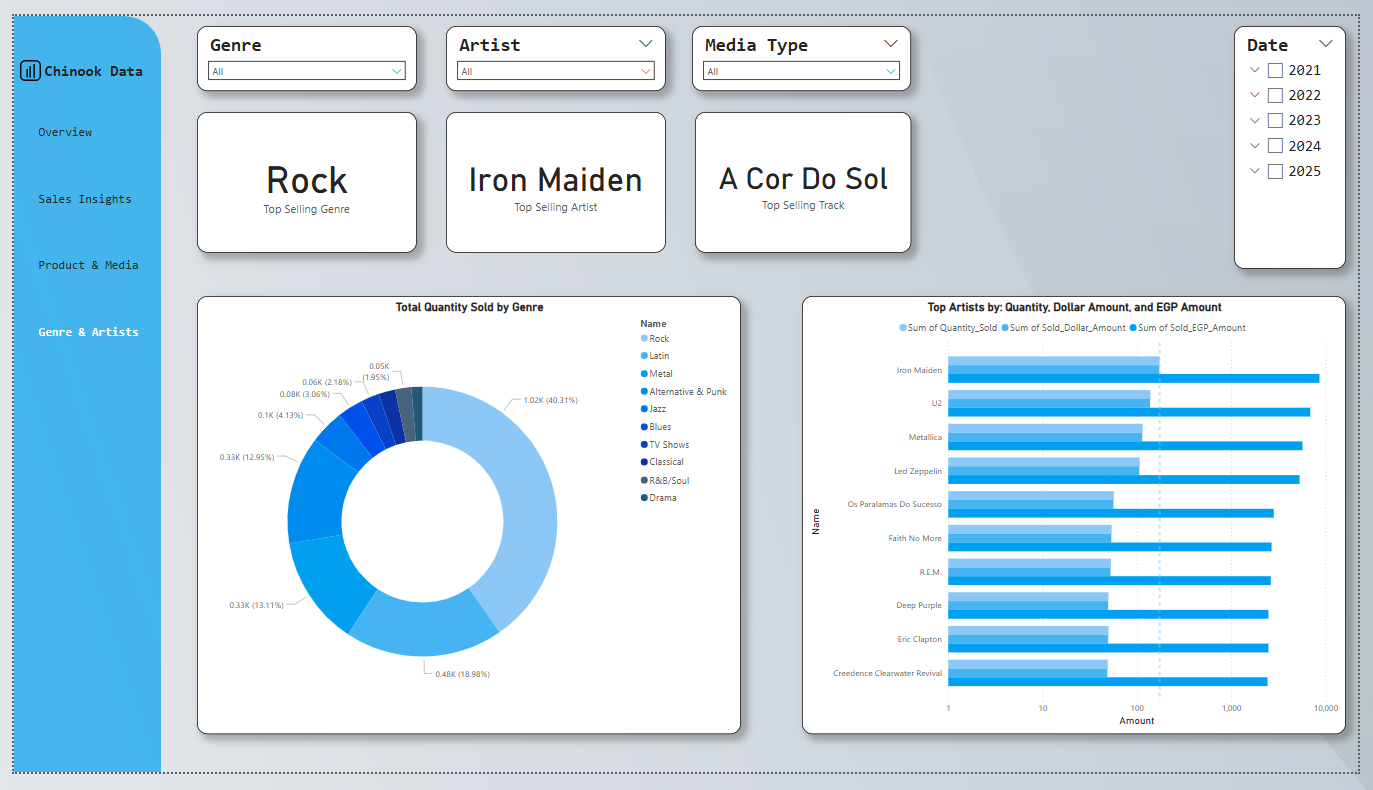

What the dashboard file says about the page in this screenshot:
{"tool":"powerbi","page":{"name":"Genre & Artists","canvas":[1920,1080],"ordinal":3},"visuals":[{"type":"shape","box":[0,0,210,1080],"z":0},{"type":"shape","box":[12.7,75.8,12,12],"z":1000},{"type":"shape","box":[8.7,62.8,30,30],"z":2000},{"type":"shape","box":[17.7,70.8,12,17.2],"z":3000},{"type":"shape","box":[23,68,12,20.3],"z":4000},{"type":"textbox","box":[38.6,60,171.4,40],"z":5000},{"type":"slicer","fields":{"Values":["Genre.Name"]},"box":[261.4,14.3,314.3,92.9],"z":6000},{"type":"slicer","fields":{"Values":["Artist.Name"]},"box":[617.1,14.3,314.3,92.9],"z":7000},{"type":"slicer","fields":{"Values":["Dim_Date.Year","Dim_Date.FullDate.Variation.Date Hierarchy.Quarter","Dim_Date.FullDate.Variation.Date Hierarchy.Month"]},"box":[1742.9,14.3,160,347.1],"z":8000},{"type":"pageNavigator","box":[0,122.9,210,371.4],"z":9000},{"type":"card","fields":{"Values":["Genre.Name"]},"box":[261.4,137.1,314.3,201.4],"z":10000},{"type":"card","fields":{"Values":["Artist.Name"]},"box":[617.1,137.1,314.3,201.4],"z":11000},{"type":"donutChart","title":"Total Quantity Sold by Genre","fields":{"Category":["Genre.Name"],"Y":["Sales_Analysis_Fact_Table_New.Quantity_Sold"]},"box":[261.4,400,777.1,625.7],"z":12000},{"type":"card","fields":{"Values":["Track.Name"]},"box":[972.9,137.1,308.6,201.4],"z":14000},{"type":"clusteredBarChart","title":"Top Artists by: Quantity, Dollar Amount, and EGP Amount","fields":{"Y":["Sales_Analysis_Fact_Table_New.Quantity_Sold","Sales_Analysis_Fact_Table_New.Sold_Dollar_Amount","Sales_Analysis_Fact_Table_New.Sold_EGP_Amount"],"Category":["Artist.Name"]},"box":[1125.7,400,777.1,625.7],"z":16000},{"type":"slicer","fields":{"Values":["MediaType.Name"]},"box":[968.6,14.3,312.9,92.9],"z":17000}]}

Visuals, with their boxes in screenshot pixels (x1, y1, x2, y2), scaled from the page's 1920x1080 canvas onto the 1373x790 screenshot:
shape: 0 0 150 789
shape: 9 55 18 64
shape: 6 46 28 68
shape: 13 52 21 64
shape: 16 50 25 65
textbox: 28 44 150 73
slicer - Genre.Name: 187 10 412 78
slicer - Artist.Name: 441 10 666 78
slicer - Dim_Date.Year x Dim_Date.FullDate.Variation.Date Hierarchy.Quarter: 1246 10 1361 264
pageNavigator: 0 90 150 362
card - Genre.Name: 187 100 412 248
card - Artist.Name: 441 100 666 248
"Total Quantity Sold by Genre" donutChart: 187 293 743 750
card - Track.Name: 696 100 916 248
"Top Artists by: Quantity, Dollar Amount, and EGP Amount" clusteredBarChart: 805 293 1361 750
slicer - MediaType.Name: 693 10 916 78
